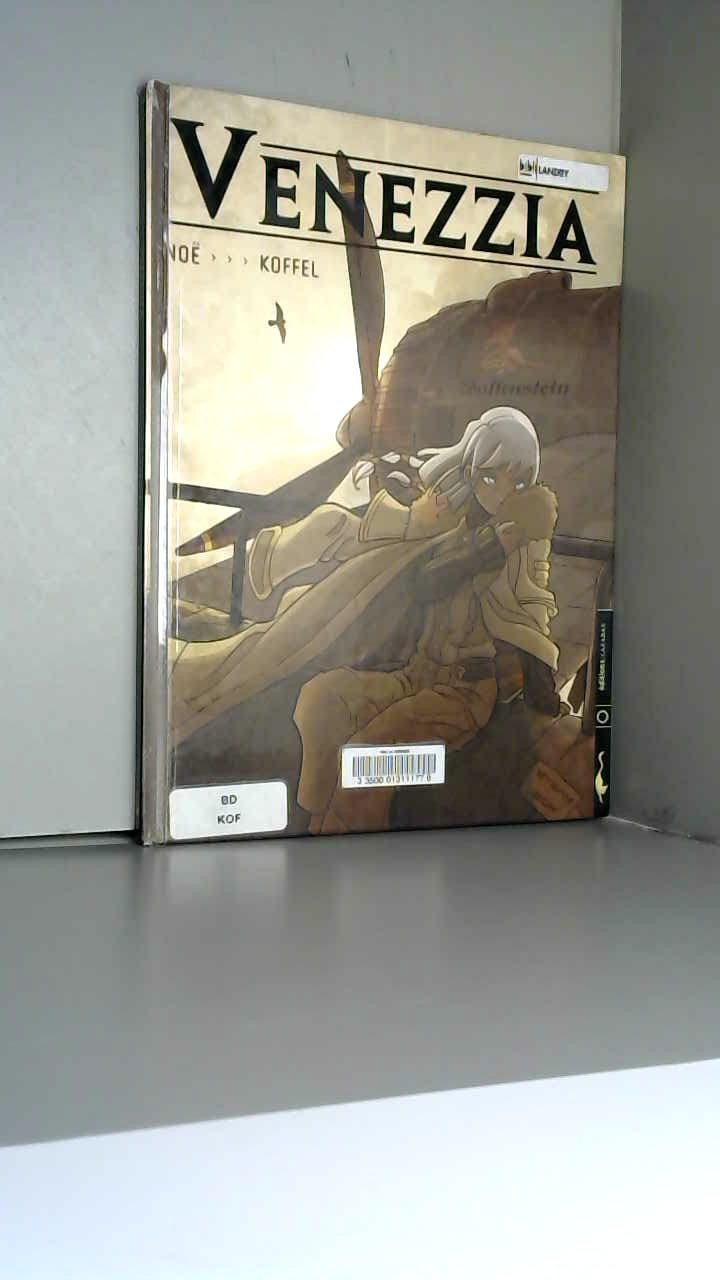book: (110, 60, 720, 882)
